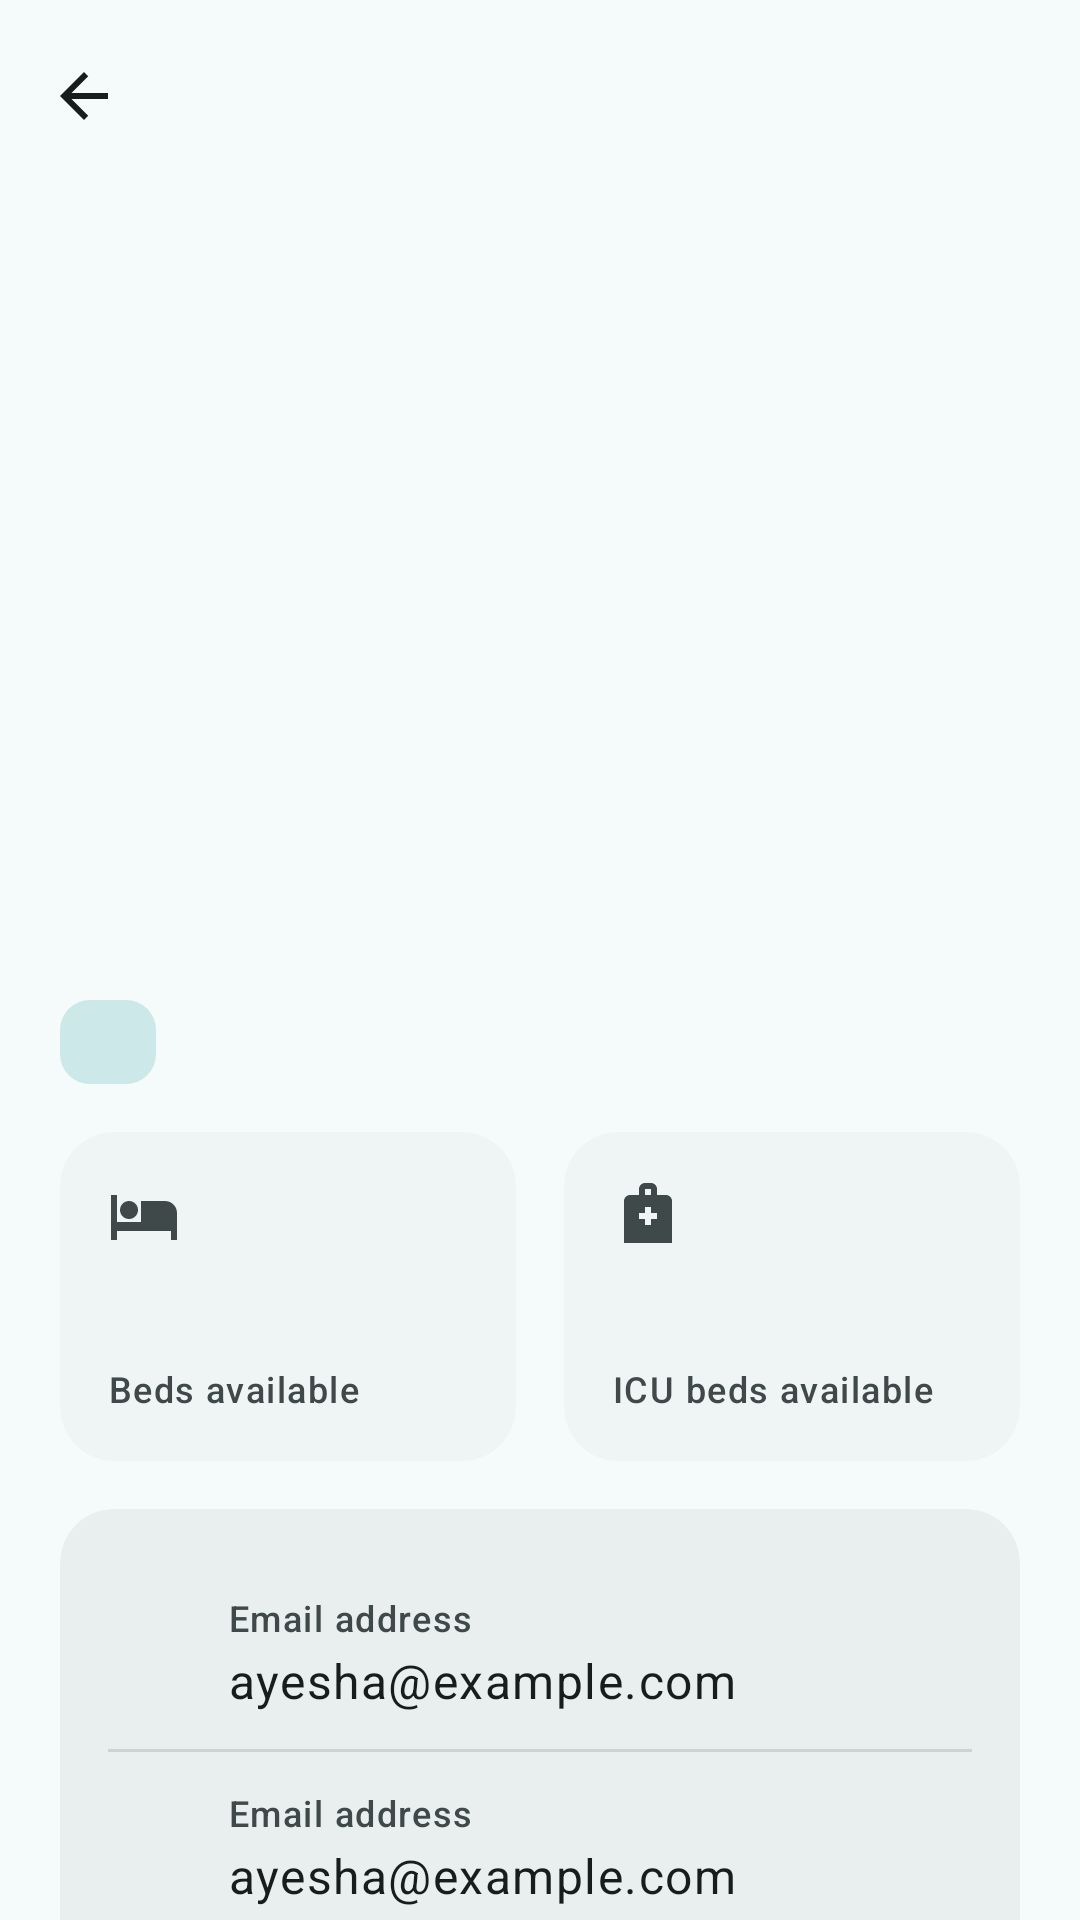

Icon bounding boxes for this 1080px×1920px phone screenshot, format [x1=x1, y1=y1, x2=x2, y2=y2]:
bed: [x1=111, y1=1195, x2=177, y2=1240]
hospital: [x1=624, y1=1183, x2=672, y2=1243]
